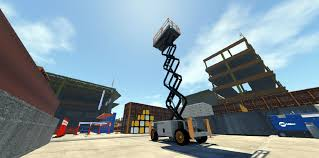Scissor Lift: (148, 16, 214, 145)
